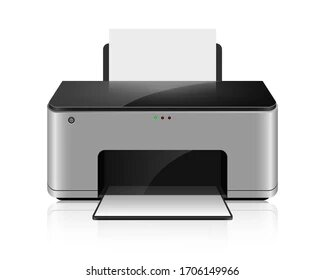printer: (45, 27, 280, 223)
